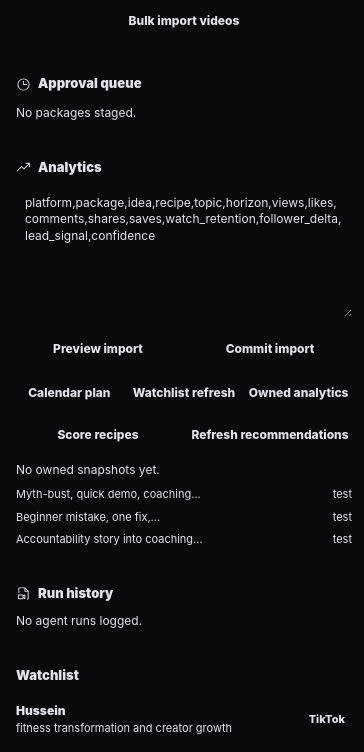
Test case: GrowthOpsPage › logs run history with connector snapshots from run endpoints
The width and height of the screenshot is (364, 752).
(page scrolled)
Click the button "Watchlist refresh". click: (184, 393)
box: top-left (131, 376), bottom-right (237, 410)
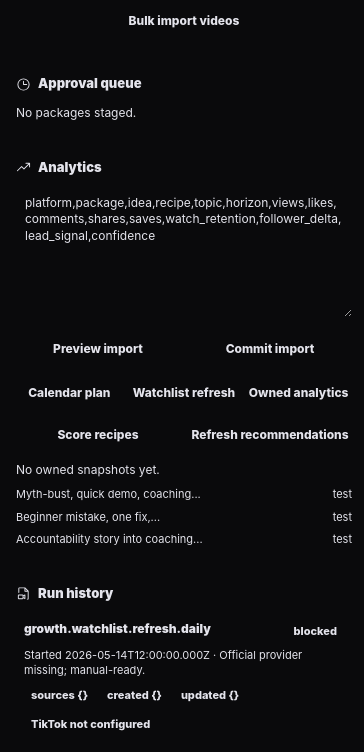
Expected: the text "growth.watchlist.refresh.daily" is shown, top-left (24, 620), bottom-right (211, 643)
Expected: the text "manual-ready" is shown, top-left (24, 648), bottom-right (302, 677)
Expected: the text "TikTok not configured" is shown, top-left (24, 713), bottom-right (157, 736)
